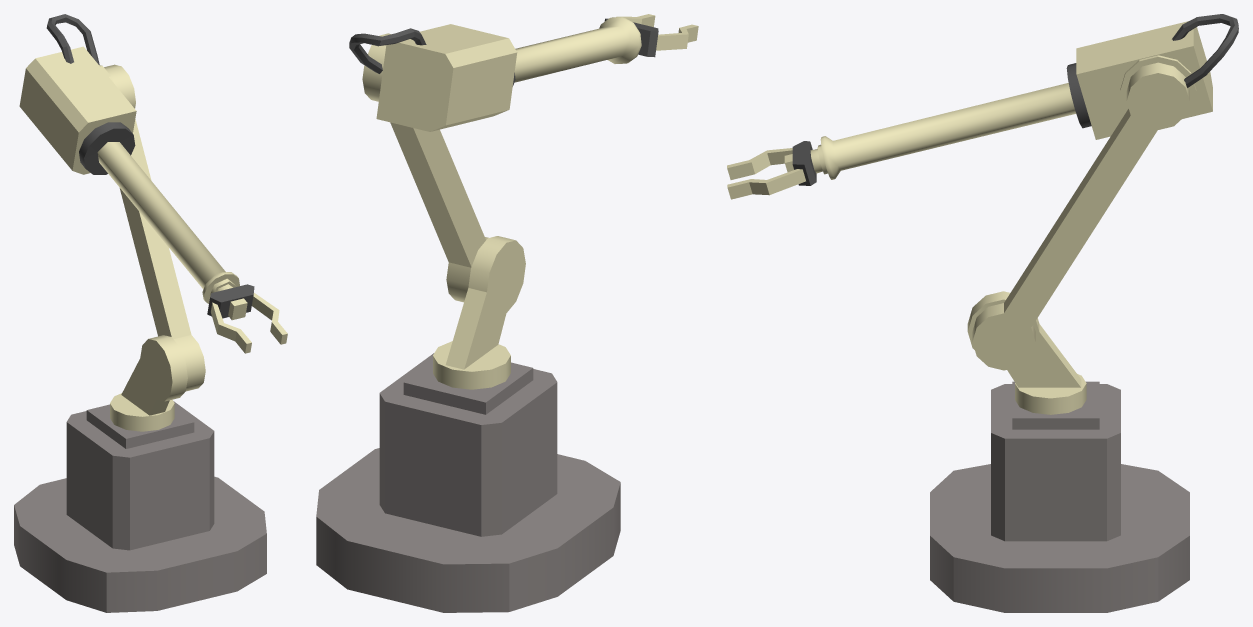
Rendered from SM_Robo_02.fbx.
3 views of the same model, side by side, from view 1: azimuth 30°, elevation 25°; view 2: azimuth 150°, elevation 25°; view 3: azimuth 270°, elevation 25° (orthographic). The views are drawn at different scales.
Visible parts, largest first — view 1: SM_Robo_02; view 2: SM_Robo_02; view 3: SM_Robo_02.
Part boxes in pixels (x1,y1,x2,y2): SM_Robo_02: [14, 14, 287, 612]; SM_Robo_02: [316, 14, 698, 612]; SM_Robo_02: [727, 14, 1238, 612].
Bounding box in the file's own units: 119 × 279 × 241.
